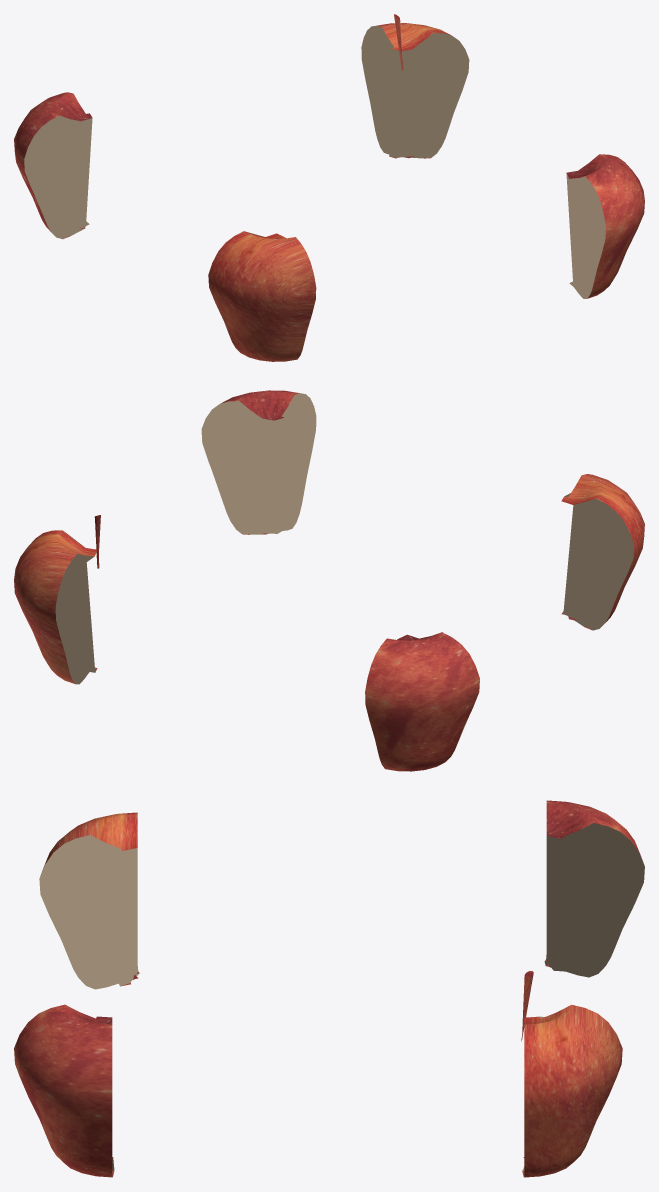
Rendered from RedAppleSections.fbx.
3 views of the same model, one above another, from view 1: azimuth 30°, elevation 25°; view 2: azimuth 150°, elevation 25°; view 3: azimuth 270°, elevation 25° (orthographic). The views are drawn at different scales.
Visible parts, largest first — view 1: polySurface11, polySurface12, polySurface10, polySurface9; view 2: polySurface9, polySurface10, polySurface11, polySurface12; view 3: polySurface10, polySurface12, polySurface11, polySurface9.
Boxes of the visible parts, x1=… form: polySurface11: x1=361, y1=14, x2=469, y2=158; polySurface12: x1=208, y1=231, x2=316, y2=361; polySurface10: x1=14, y1=92, x2=92, y2=239; polySurface9: x1=566, y1=154, x2=644, y2=298; polySurface9: x1=201, y1=390, x2=316, y2=534; polySurface10: x1=365, y1=632, x2=479, y2=771; polySurface11: x1=14, y1=515, x2=100, y2=684; polySurface12: x1=561, y1=474, x2=644, y2=630; polySurface10: x1=544, y1=800, x2=644, y2=977; polySurface12: x1=39, y1=812, x2=139, y2=989; polySurface11: x1=521, y1=971, x2=622, y2=1177; polySurface9: x1=14, y1=1004, x2=114, y2=1177.
Bounding box in the file's own units: 6.03 × 1.97 × 6.07.
